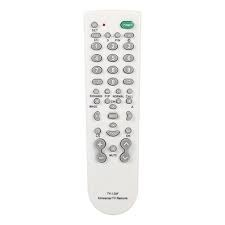remote control: (86, 14, 143, 211)
